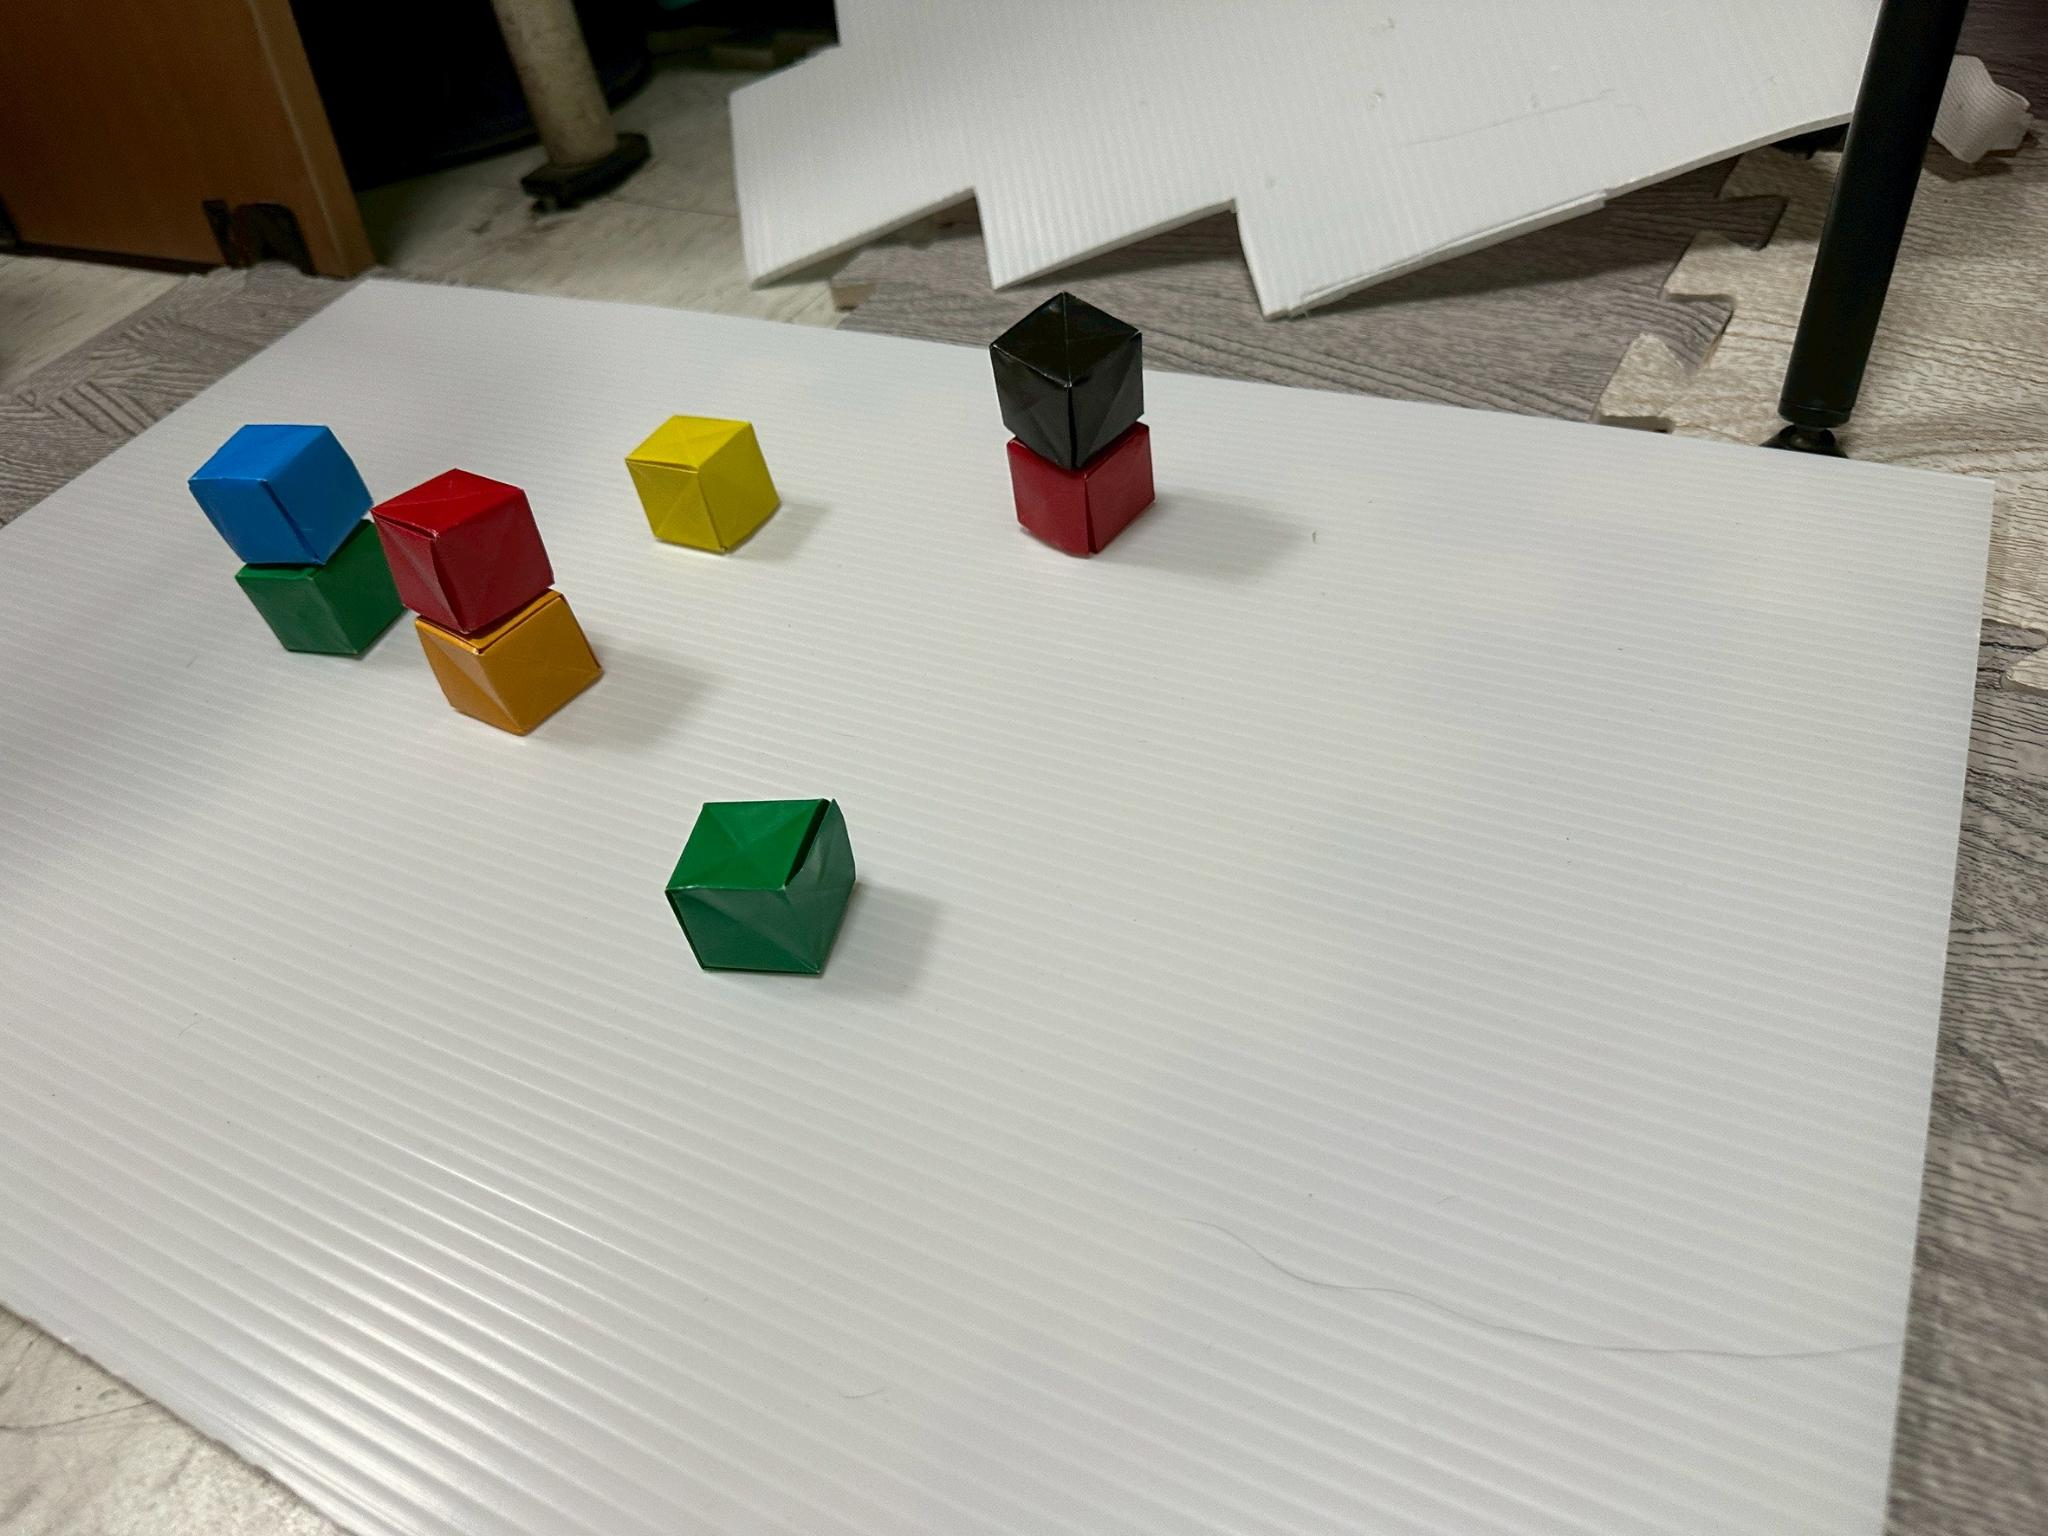cube: (665, 800, 855, 975), (371, 470, 554, 636), (990, 294, 1143, 469), (416, 591, 601, 735), (188, 425, 372, 564), (236, 521, 405, 656), (625, 416, 778, 550), (1008, 424, 1153, 556)
